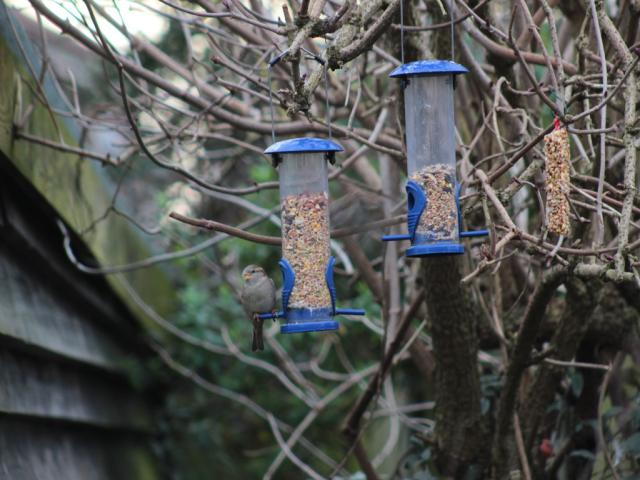Bird: (238, 264, 279, 351)
